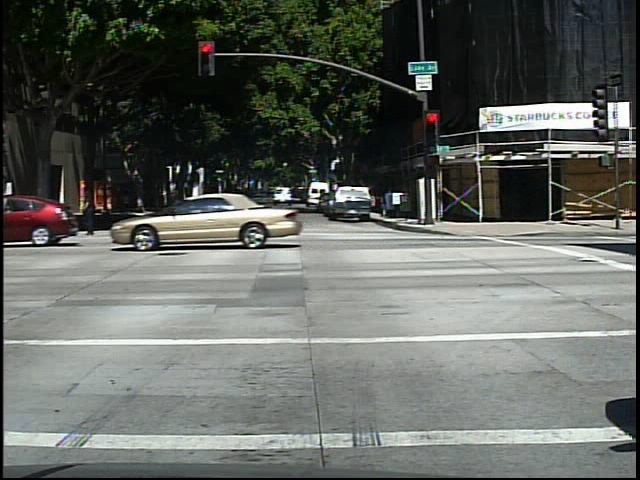person: (76, 184, 106, 237)
